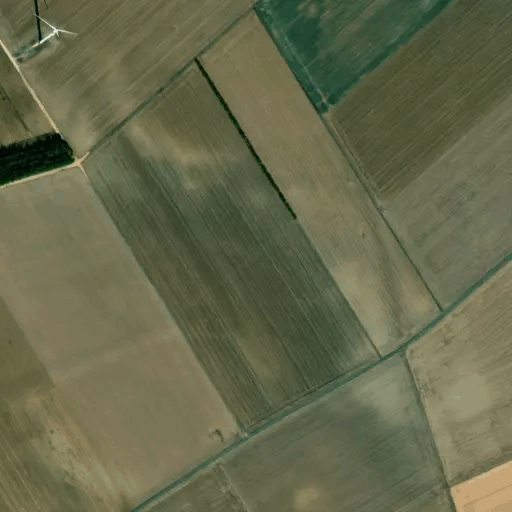wt: (15, 1, 78, 65)
